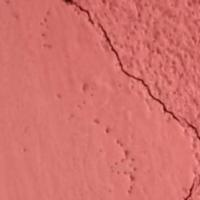crack: (63, 0, 199, 154)
